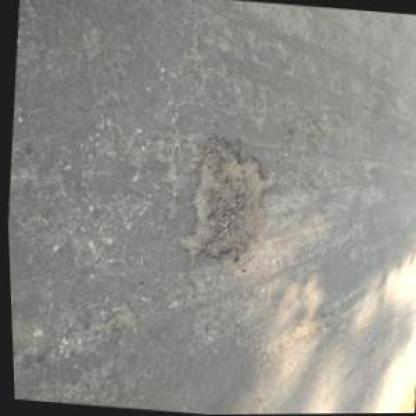pothole: (172, 128, 279, 272), (105, 295, 136, 333)
